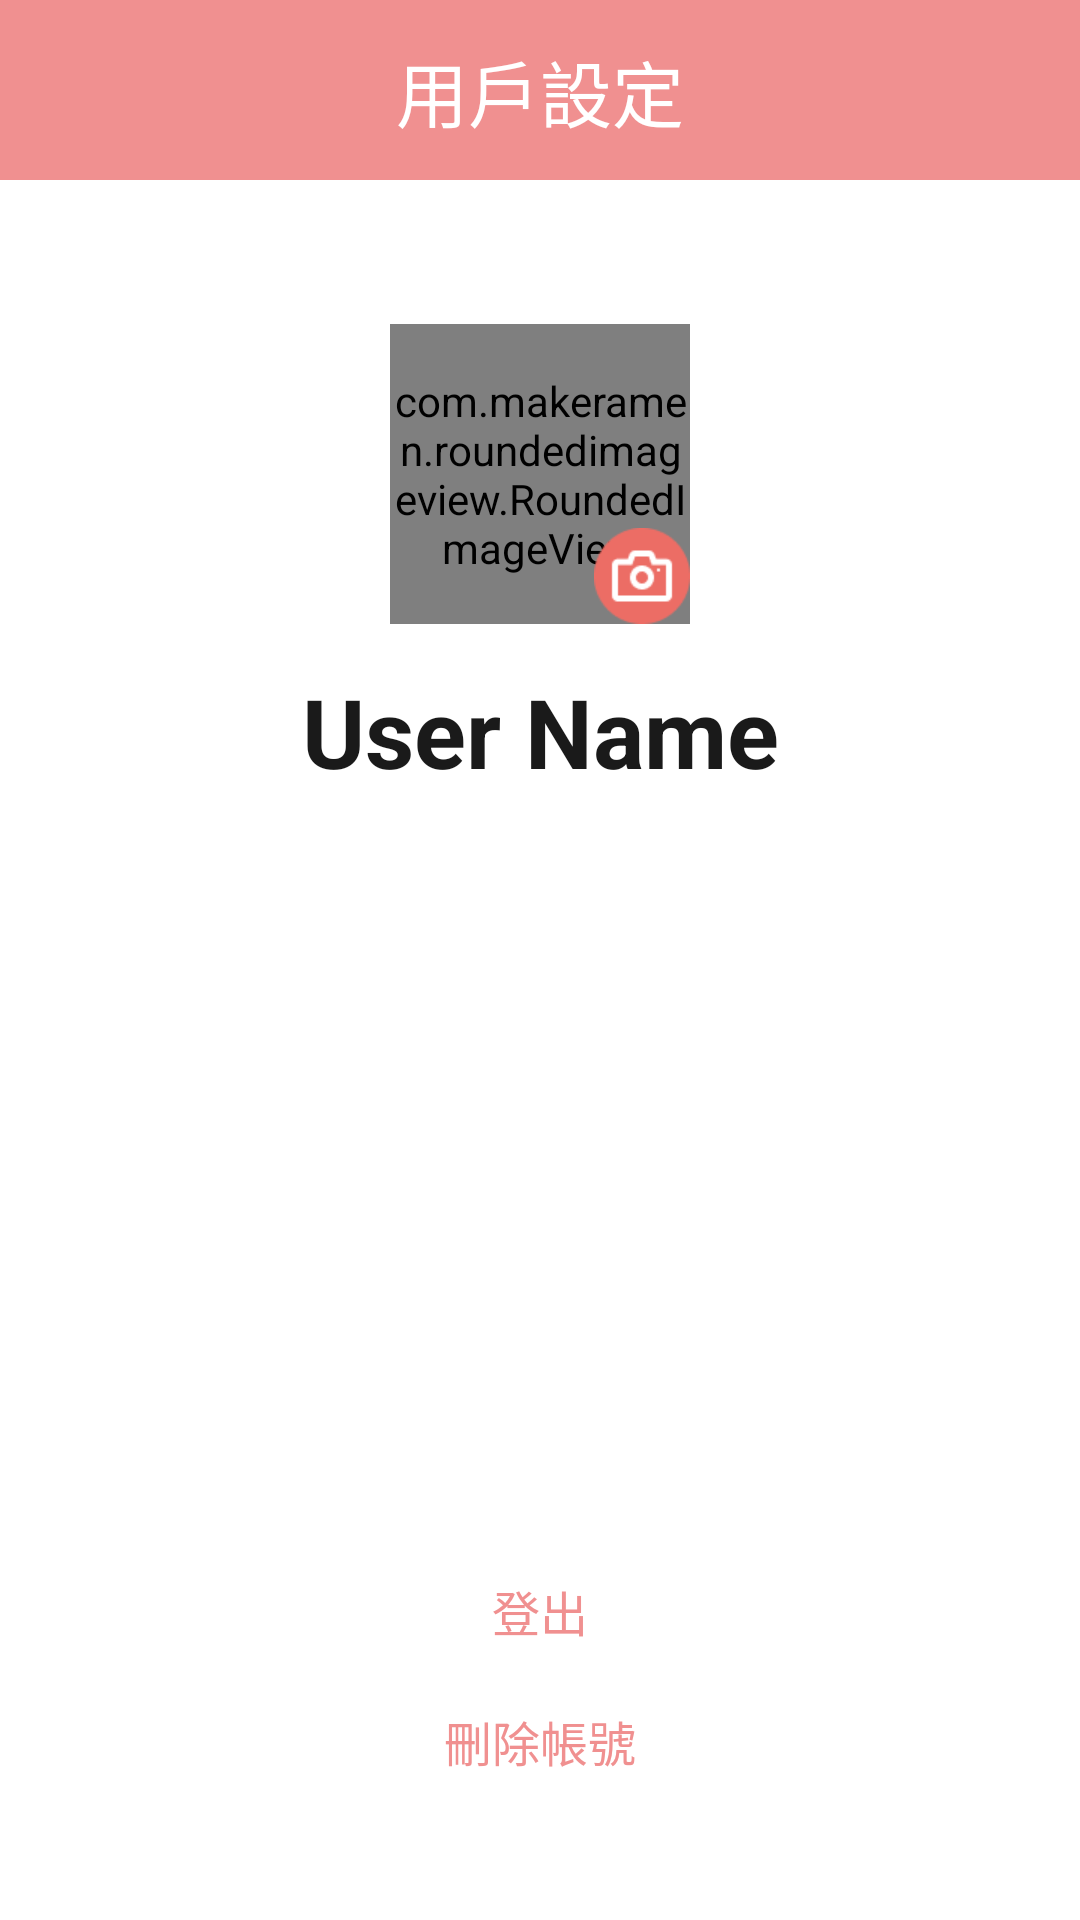

Icon click points for this 1080×1920 phone screenshot, format (x=x, y=y):
camera: (x=642, y=576)
